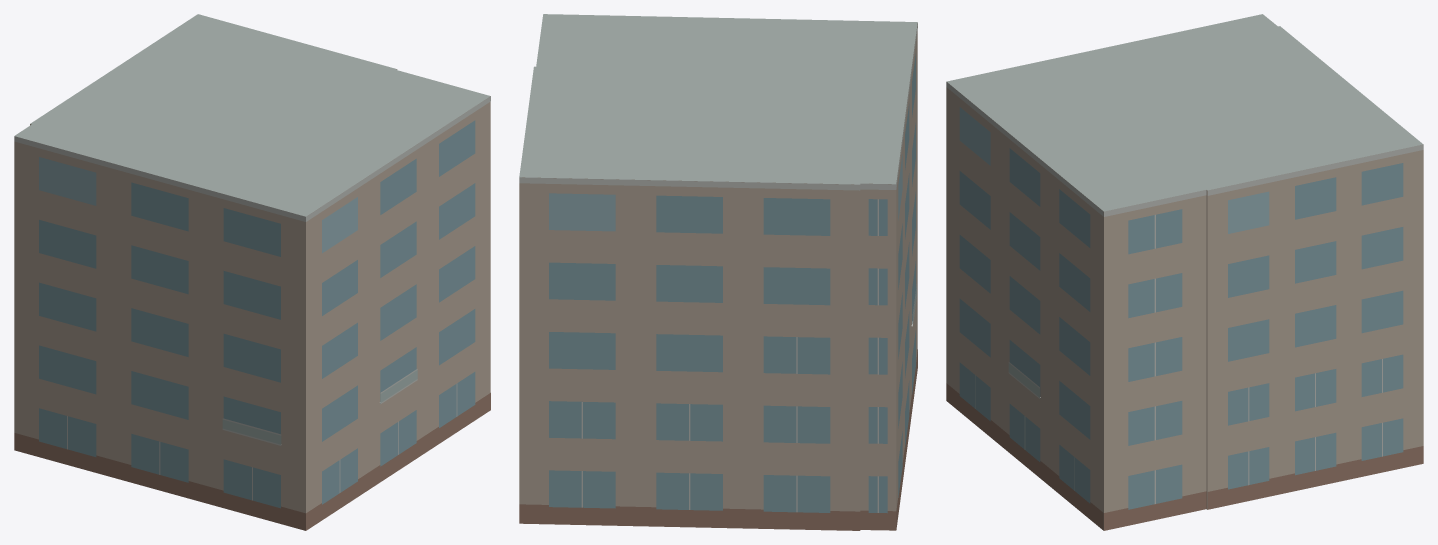
Rendered from survey-upis-32834131.glb.
3 views of the same model, side by side, from view 1: azimuth 30°, elevation 25°; view 2: azimuth 150°, elevation 25°; view 3: azimuth 270°, elevation 25° (orthographic). The views are drawn at different scales.
Parts seen in each view (by area): view 1: survey-upis-32834131.tmp; view 2: survey-upis-32834131.tmp; view 3: survey-upis-32834131.tmp.
Part boxes in pixels (x1=…): survey-upis-32834131.tmp: x1=14, y1=14, x2=490, y2=530; survey-upis-32834131.tmp: x1=519, y1=14, x2=917, y2=530; survey-upis-32834131.tmp: x1=946, y1=14, x2=1423, y2=530.
Bounding box in the file's own units: 18.92 × 14.25 × 19.31.
